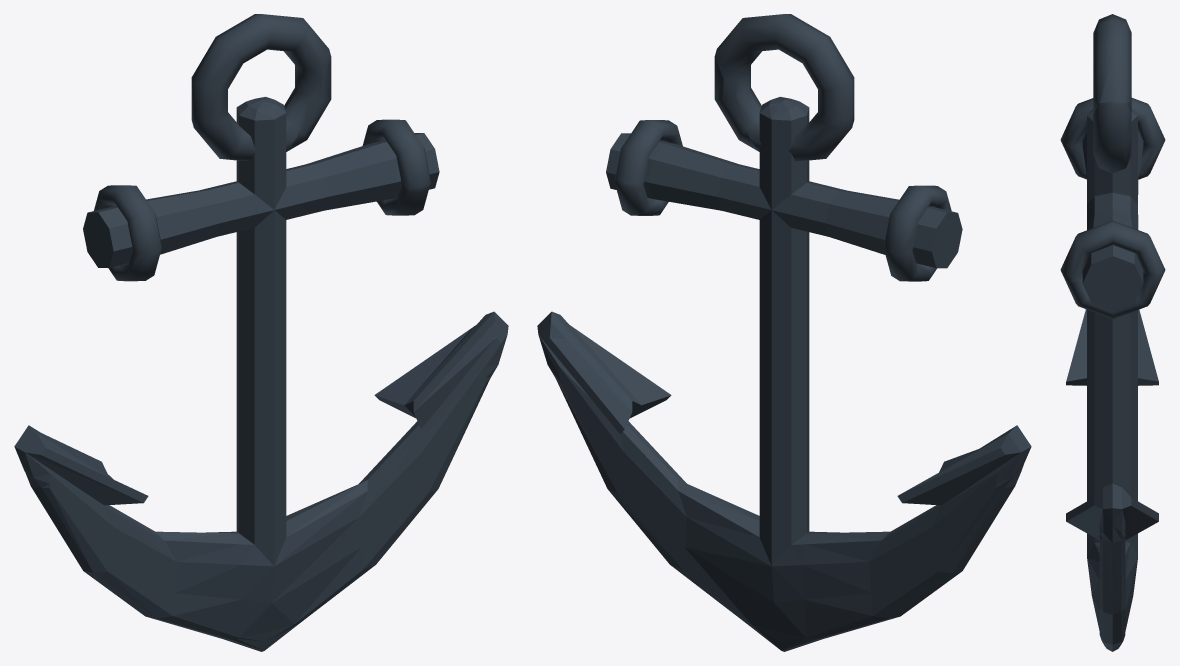
The model's file is anchor_broken.fbx.
3 renders of one model, left to right at view 1: azimuth 30°, elevation 25°; view 2: azimuth 150°, elevation 25°; view 3: azimuth 270°, elevation 25°, orthographic.
Visible parts, largest first — view 1: anchor_Part_6, anchor_Part_7, anchor_Part_5, anchor_Part_3, anchor_Part_4, anchor_Part_1, anchor_Part_2; view 2: anchor_Part_6, anchor_Part_7, anchor_Part_5, anchor_Part_3, anchor_Part_4, anchor_Part_1, anchor_Part_2; view 3: anchor_Part_6, anchor_Part_4, anchor_Part_3, anchor_Part_5, anchor_Part_1, anchor_Part_2, anchor_Part_7.
Part boxes in pixels (<box>): anchor_Part_6: <box>225,311,508,651</box>; anchor_Part_7: <box>14,425,241,641</box>; anchor_Part_5: <box>83,71,320,280</box>; anchor_Part_3: <box>116,211,286,439</box>; anchor_Part_4: <box>270,48,439,211</box>; anchor_Part_1: <box>191,14,331,121</box>; anchor_Part_2: <box>272,176,438,225</box>; anchor_Part_6: <box>537,311,821,651</box>; anchor_Part_7: <box>803,425,1031,641</box>; anchor_Part_5: <box>725,72,962,281</box>; anchor_Part_3: <box>759,216,928,440</box>; anchor_Part_4: <box>606,48,775,206</box>; anchor_Part_1: <box>714,14,854,120</box>; anchor_Part_2: <box>606,170,781,233</box>; anchor_Part_6: <box>1066,427,1158,651</box>; anchor_Part_4: <box>1060,100,1163,288</box>; anchor_Part_3: <box>1087,309,1137,432</box>; anchor_Part_5: <box>1060,98,1165,195</box>; anchor_Part_1: <box>1093,14,1131,113</box>; anchor_Part_2: <box>1064,202,1165,319</box>; anchor_Part_7: <box>1066,309,1158,385</box>.
Bounding box in the file's own units: 143 × 176 × 26.55.
1 material, 1 textured.
